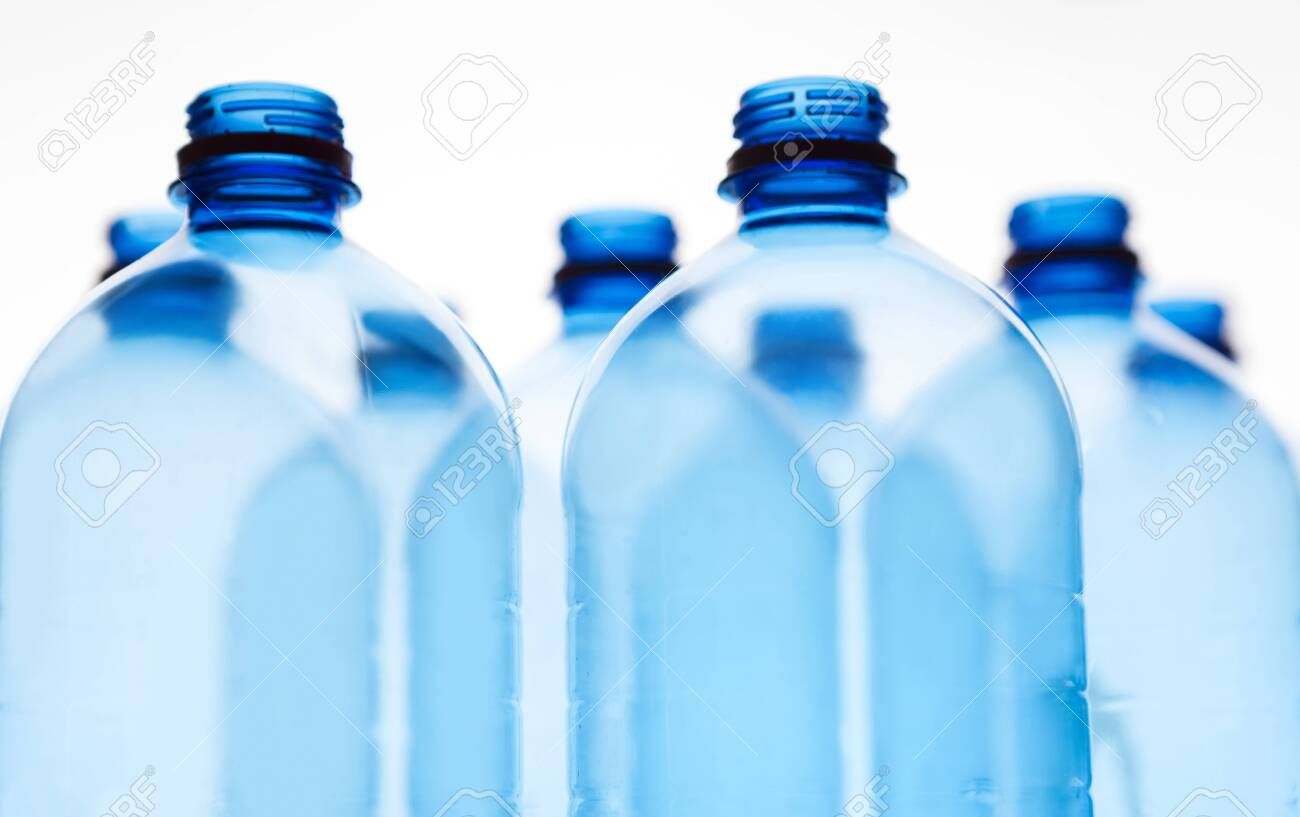plastic_bottle: (4, 28, 573, 817), (665, 4, 1148, 817), (450, 97, 801, 817), (958, 70, 1287, 817), (1057, 146, 1300, 795)
